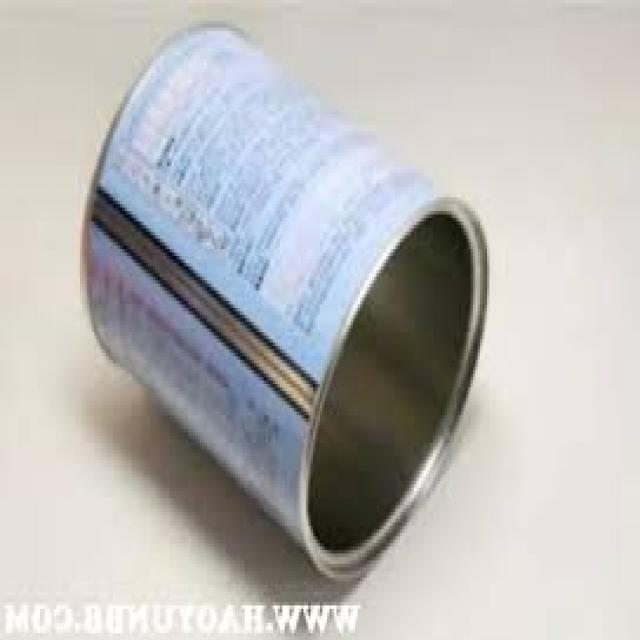metal: (83, 24, 489, 592)
